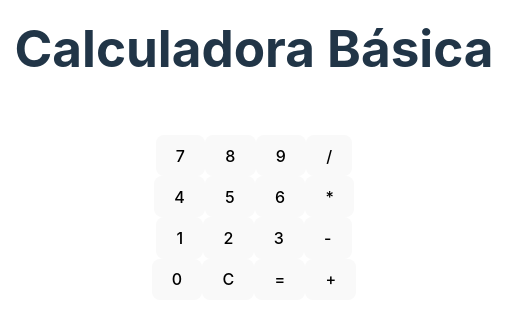
Calculadora Básica › actualiza el display al presionar botones
// Simulamos presionar el botón "7"
Step 1. Click the button "7" → coordinates (180, 156), box [156,135,205,176]
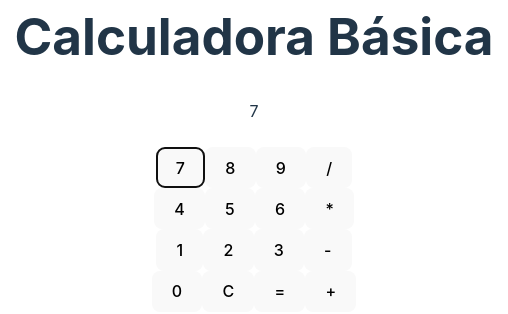
Result: the text with class "calculation" reads "7" at [250,101,259,121]
